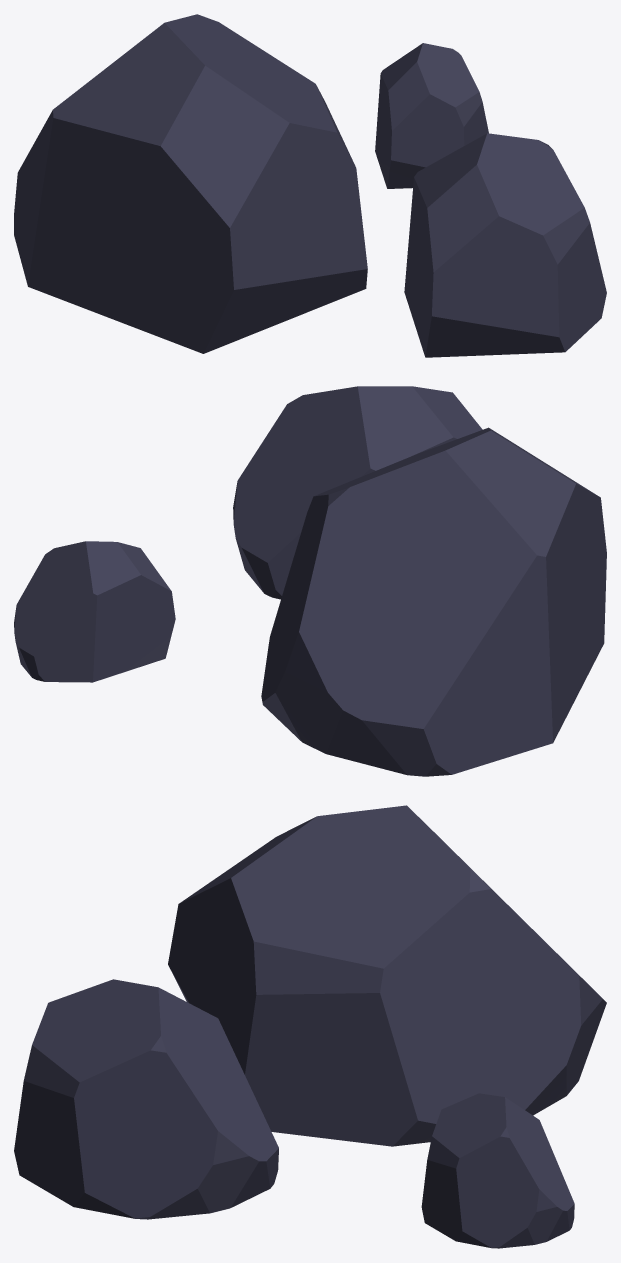
Rendered from rock.glb.
3 renders of one model, top to bottom at view 1: azimuth 30°, elevation 25°; view 2: azimuth 150°, elevation 25°; view 3: azimuth 270°, elevation 25°, orthographic. The views are drawn at different scales.
Visible parts, largest first — view 1: Icosphere.002; view 2: Icosphere.002; view 3: Icosphere.002.
Boxes of the visible parts, <box> form: Icosphere.002: <box>14,14,606,357</box>; Icosphere.002: <box>14,386,606,776</box>; Icosphere.002: <box>14,805,606,1248</box>.
Size of the model in its own units: 1.19 by 0.581 by 1.2.
